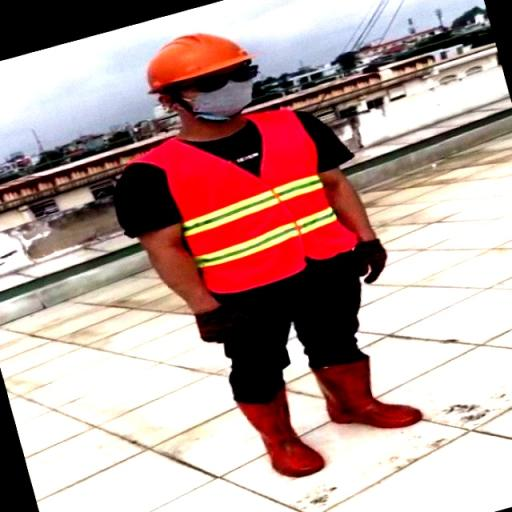Person: (99, 32, 474, 486)
boots: (304, 357, 454, 452), (209, 384, 336, 482)
gloves: (155, 278, 249, 364), (344, 228, 424, 292)
goggles: (147, 56, 298, 93)
helmet: (128, 33, 292, 92)
vest: (118, 105, 380, 289)
